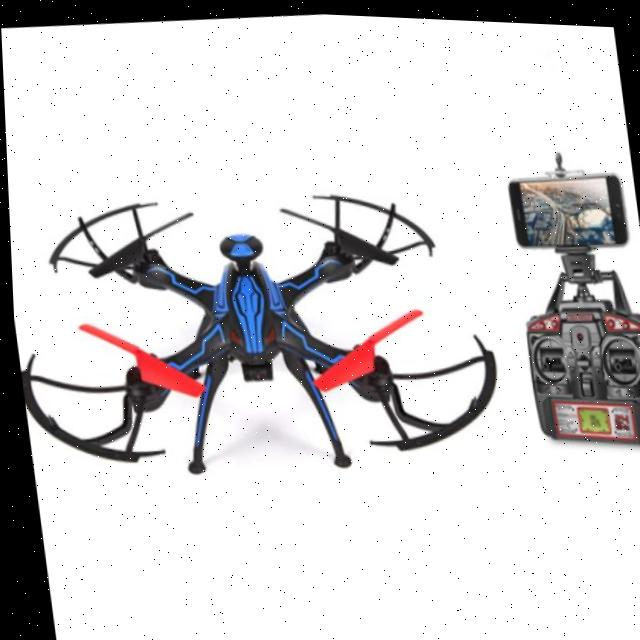drones: (4, 128, 514, 515)
